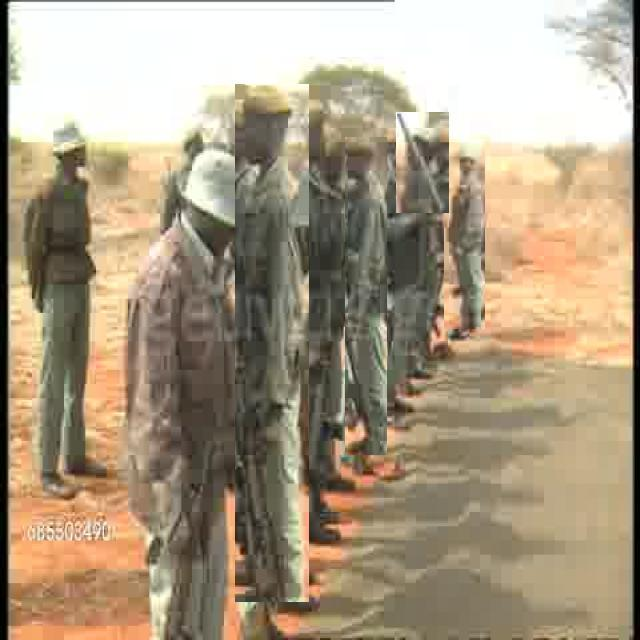poacher: (110, 142, 254, 615), (8, 92, 118, 506), (235, 83, 309, 602), (345, 137, 387, 455), (384, 128, 422, 409), (444, 139, 485, 329)
weapon: (396, 112, 449, 213)
